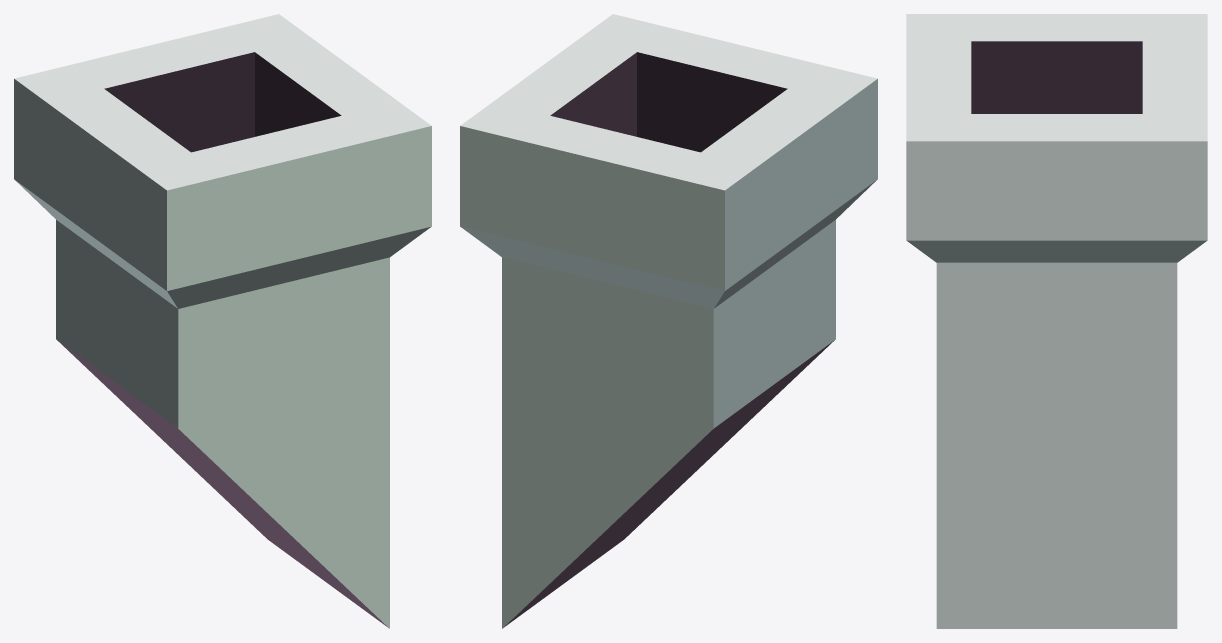
File: Chimney01_White.glb
3 views of the same model, side by side, from view 1: azimuth 30°, elevation 25°; view 2: azimuth 150°, elevation 25°; view 3: azimuth 270°, elevation 25° (orthographic).
Parts seen in each view (by area): view 1: Chimney01_White; view 2: Chimney01_White; view 3: Chimney01_White.
Part boxes in pixels (x1,y1,x2,y2): Chimney01_White: (14, 14, 431, 628); Chimney01_White: (460, 14, 877, 628); Chimney01_White: (906, 14, 1207, 628).
Bounding box in the file's own units: 0.6225 × 1.14 × 0.6225.
Materials: 1 (1 with a texture image).
